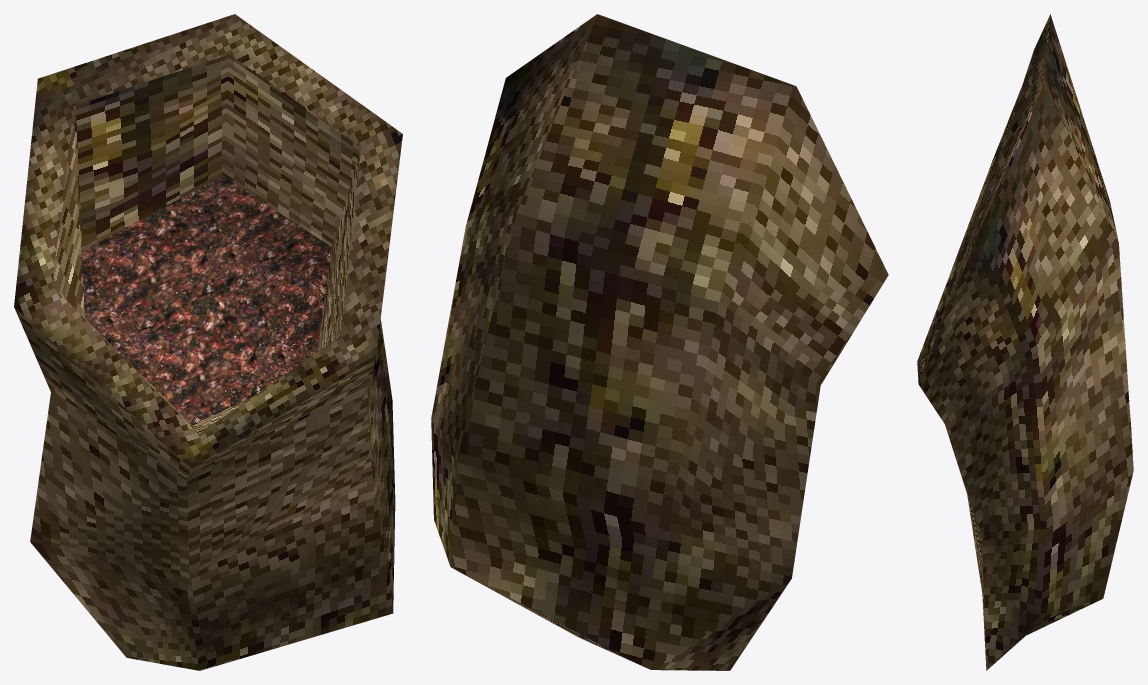
File: OC_SACK_V02.glb
The picture shows the model from 3 angles, left to right: view 1: azimuth 30°, elevation 25°; view 2: azimuth 150°, elevation 25°; view 3: azimuth 270°, elevation 25°; orthographic projection. The views are drawn at different scales.
Parts seen in each view (by area): view 1: Mesh; view 2: Mesh; view 3: Mesh.
Part boxes in pixels (x1,y1,x2,y2): Mesh: (14,14,402,670); Mesh: (431,14,888,670); Mesh: (917,14,1133,670).
Bounding box in the file's own units: 0.6574 × 0.9436 × 0.3406.
Materials: 2 (2 with a texture image).
